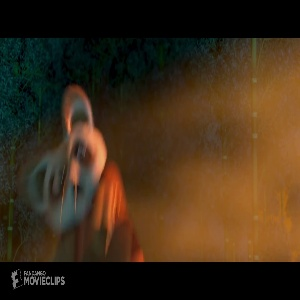shifu: (18, 80, 146, 262)
